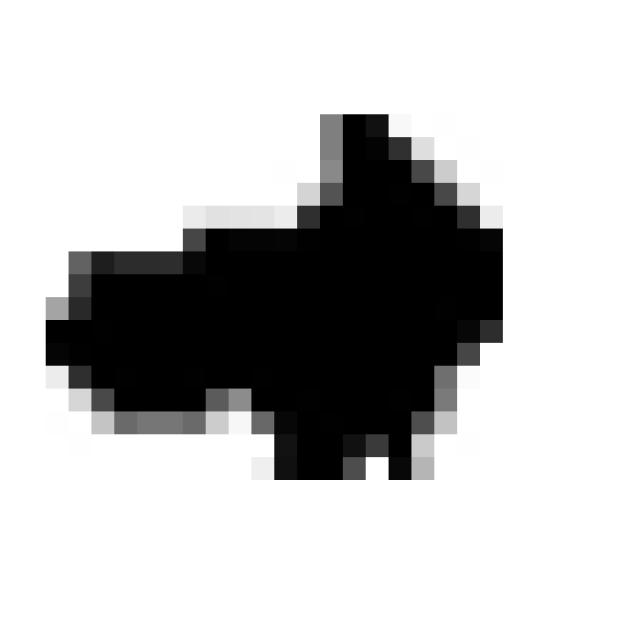0 -zero-: (28, 89, 528, 503)
